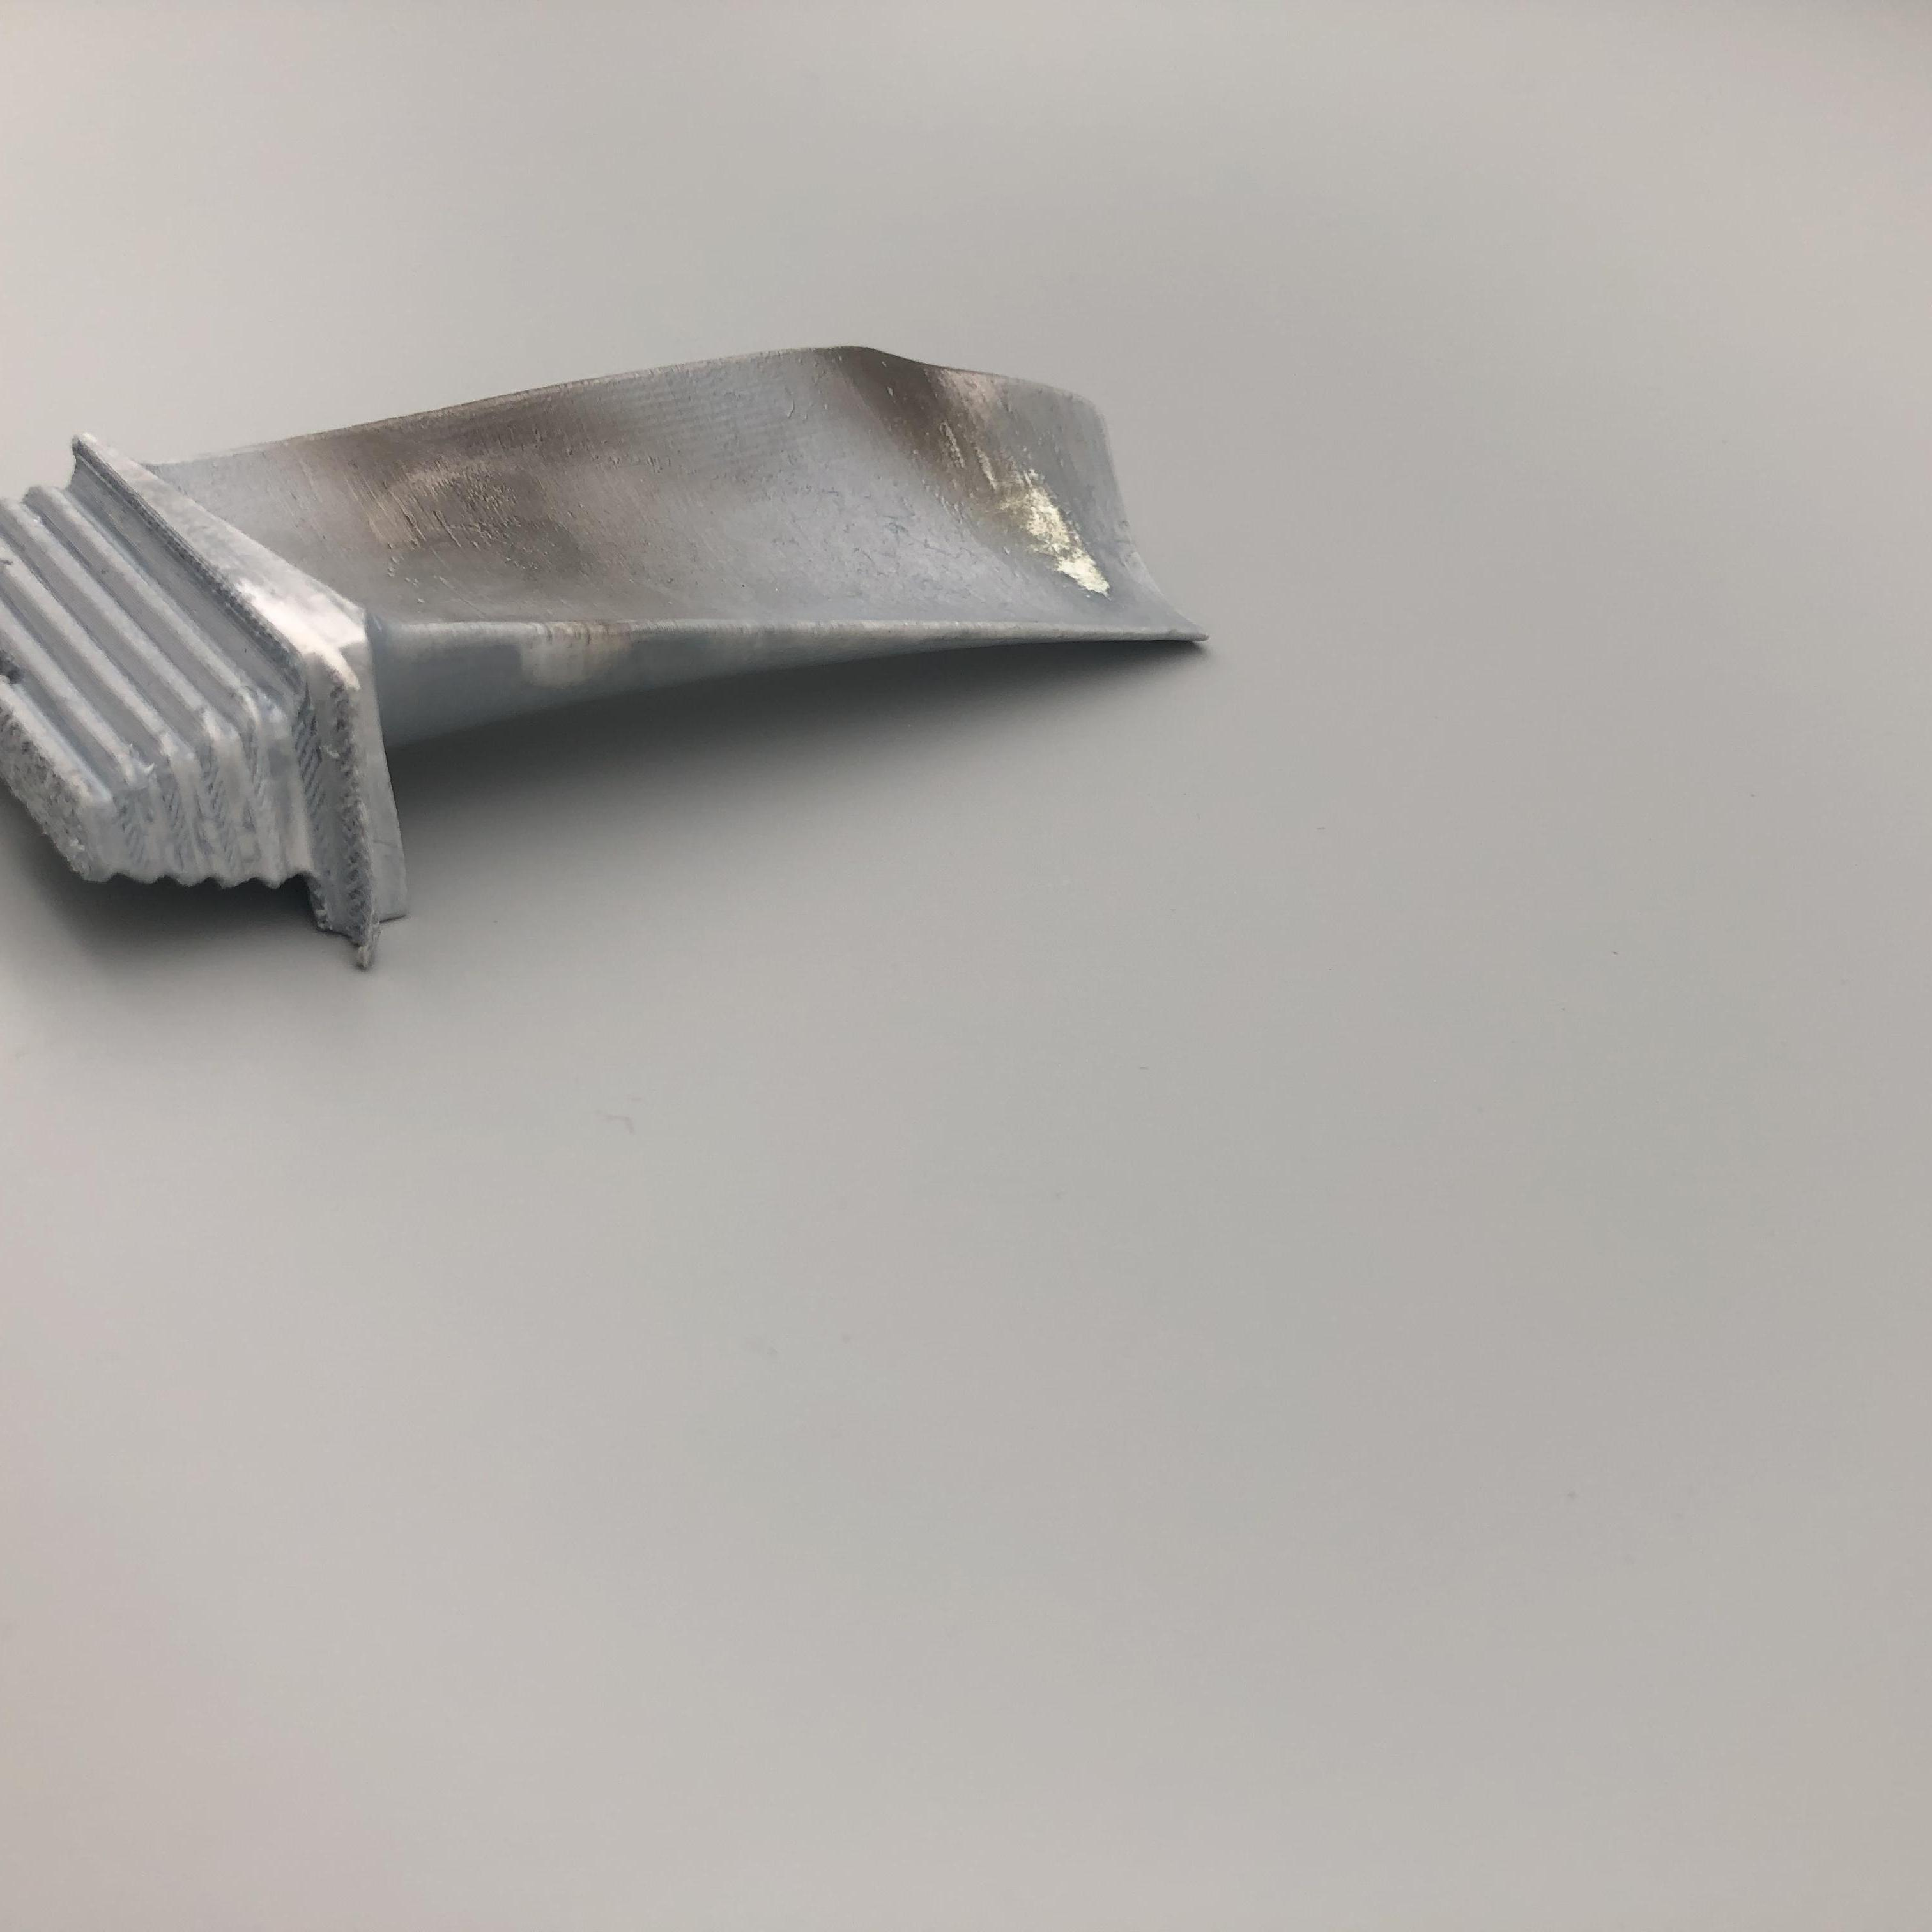ablation: (842, 347, 1125, 596), (366, 430, 667, 625)
